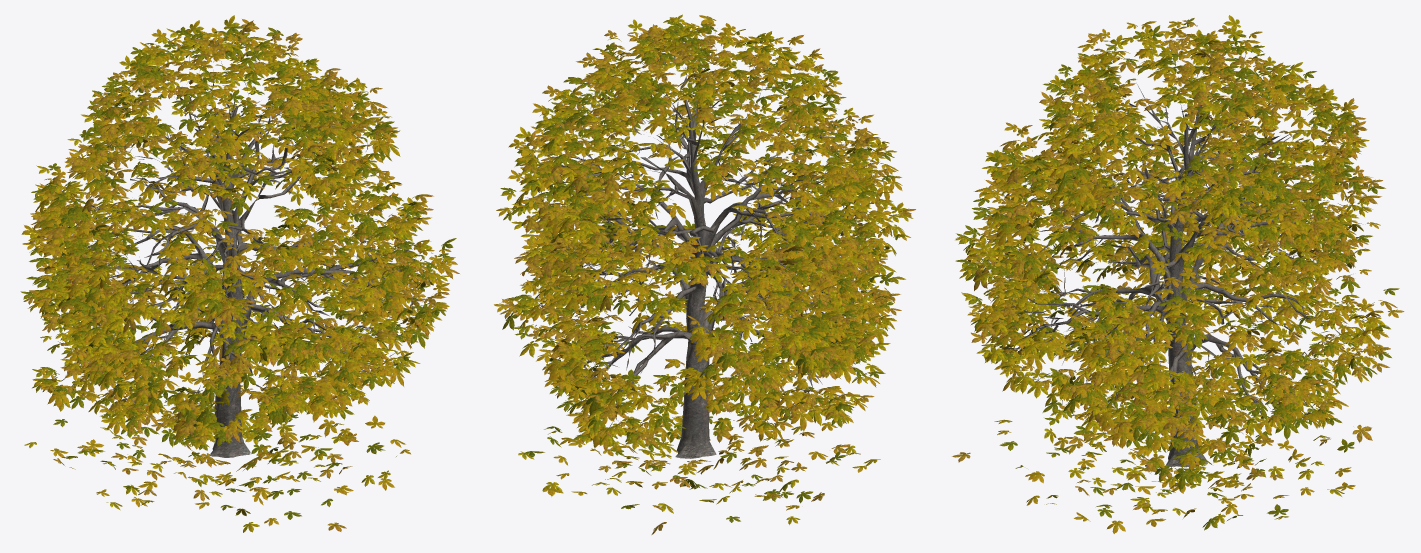
The model's file is aesculus-carnea-ld-s47.glb.
3 views of the same model, side by side, from view 1: azimuth 30°, elevation 25°; view 2: azimuth 150°, elevation 25°; view 3: azimuth 270°, elevation 25° (orthographic). The views are drawn at different scales.
Parts seen in each view (by area): view 1: ForestPlantCatalog_aesculus-carnea-ld-s47; view 2: ForestPlantCatalog_aesculus-carnea-ld-s47; view 3: ForestPlantCatalog_aesculus-carnea-ld-s47.
Boxes of the visible parts, bbox=[...] form: ForestPlantCatalog_aesculus-carnea-ld-s47: bbox=[20, 15, 459, 532]; ForestPlantCatalog_aesculus-carnea-ld-s47: bbox=[494, 14, 915, 534]; ForestPlantCatalog_aesculus-carnea-ld-s47: bbox=[952, 15, 1404, 533].
Bounding box in the file's own units: 10.59 × 11.5 × 10.73.
12 materials, 12 textured.
